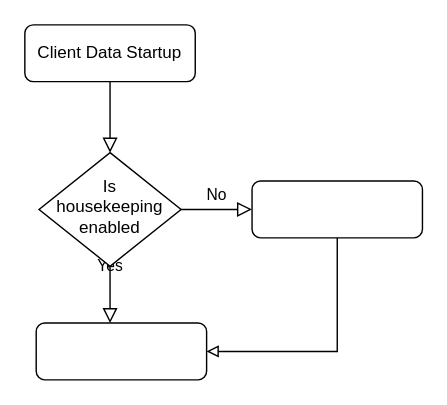
The diagram is 447 pixels wide and 405 high, and some of its shapes have lost their labels. The centre of each missing label's shape, as x and y in pixels:
remove housekeeping job: the point at 336,209
Start scheduler: the point at 121,351
